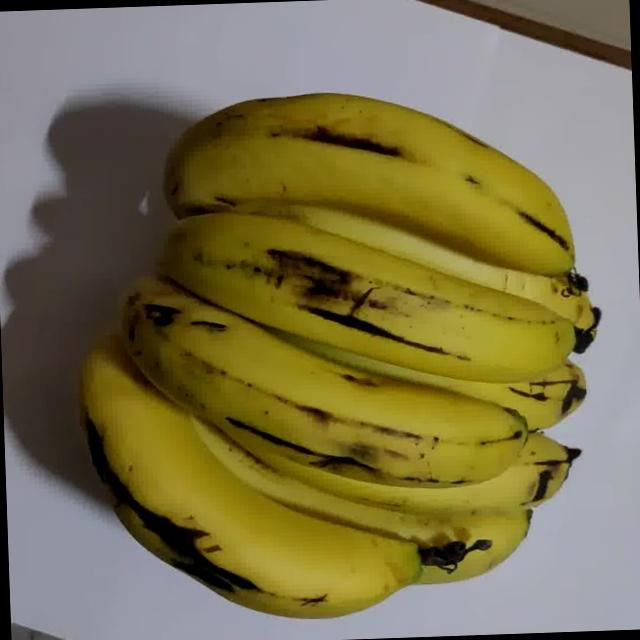banana_pacche: (0, 25, 619, 640)
